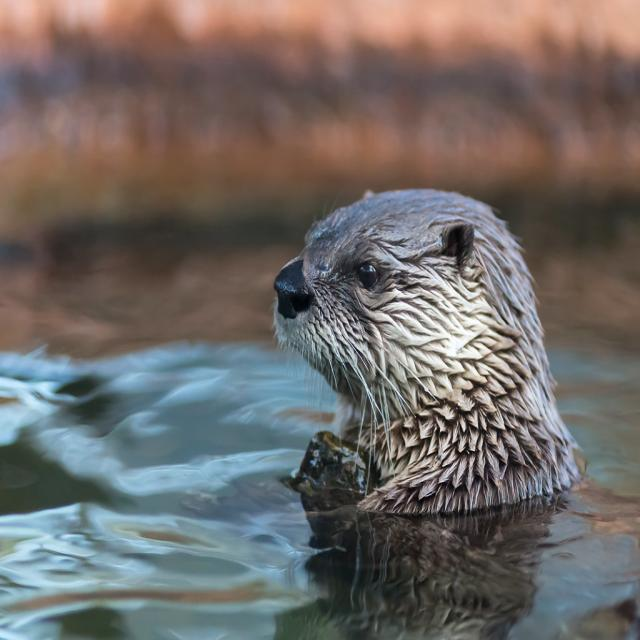otter: (276, 190, 577, 516)
